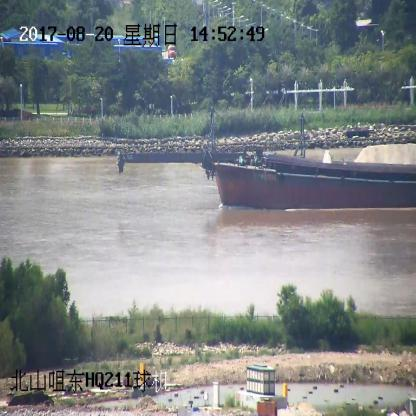Bulk Carrier: (118, 118, 415, 208)
